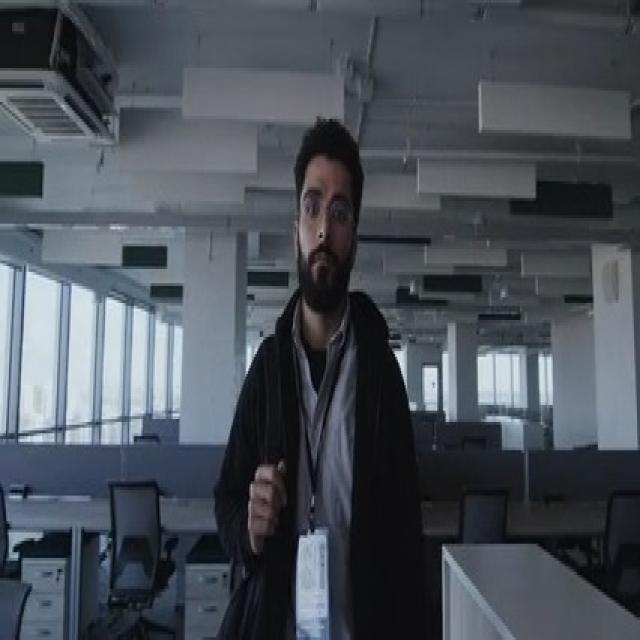Jacket_Wearer: (220, 290, 414, 640)
Person: (220, 112, 420, 640)
